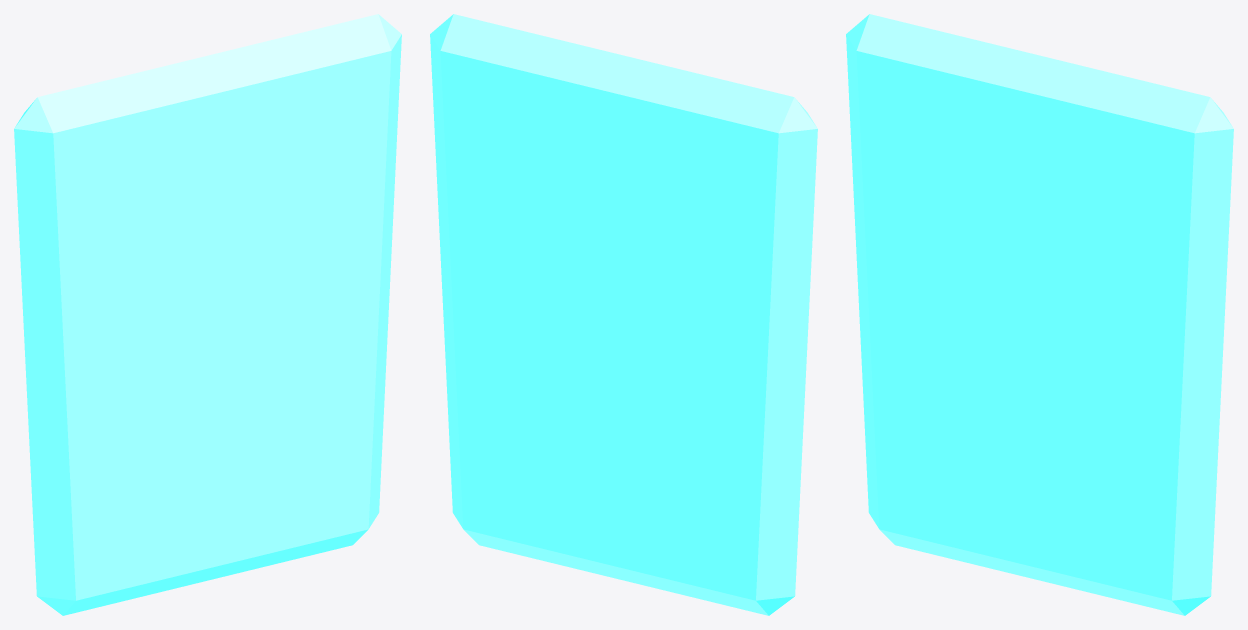
The model's file is Pi Message Area.fbx.
The picture shows the model from 3 angles, left to right: view 1: azimuth 30°, elevation 25°; view 2: azimuth 150°, elevation 25°; view 3: azimuth 330°, elevation 25°; orthographic projection.
Parts seen in each view (by area): view 1: Pi Message Area; view 2: Pi Message Area; view 3: Pi Message Area.
Part boxes in pixels (x1,y1,x2,y2): Pi Message Area: [14, 14, 401, 615]; Pi Message Area: [430, 14, 817, 615]; Pi Message Area: [846, 14, 1233, 615].
Bounding box in the file's own units: 306 × 396 × 39.26.
